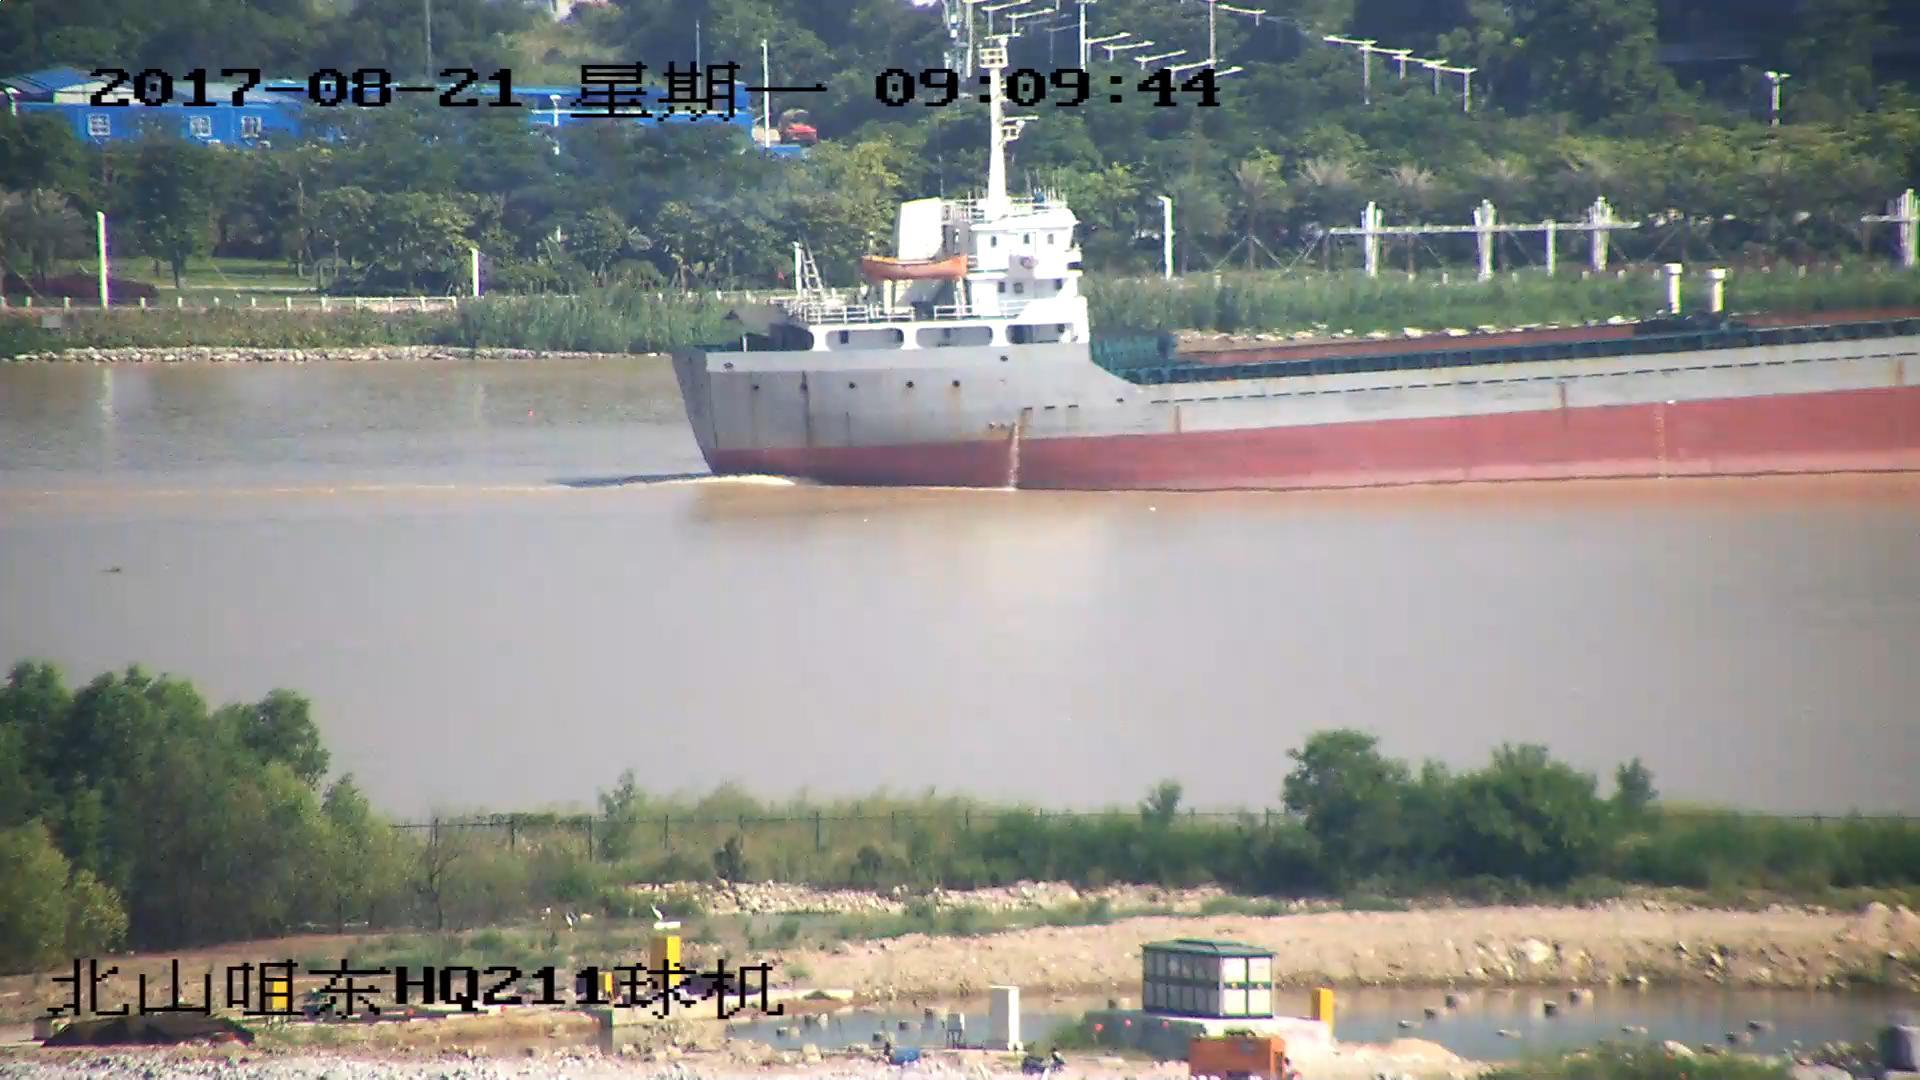Ship: (667, 127, 1920, 491)
